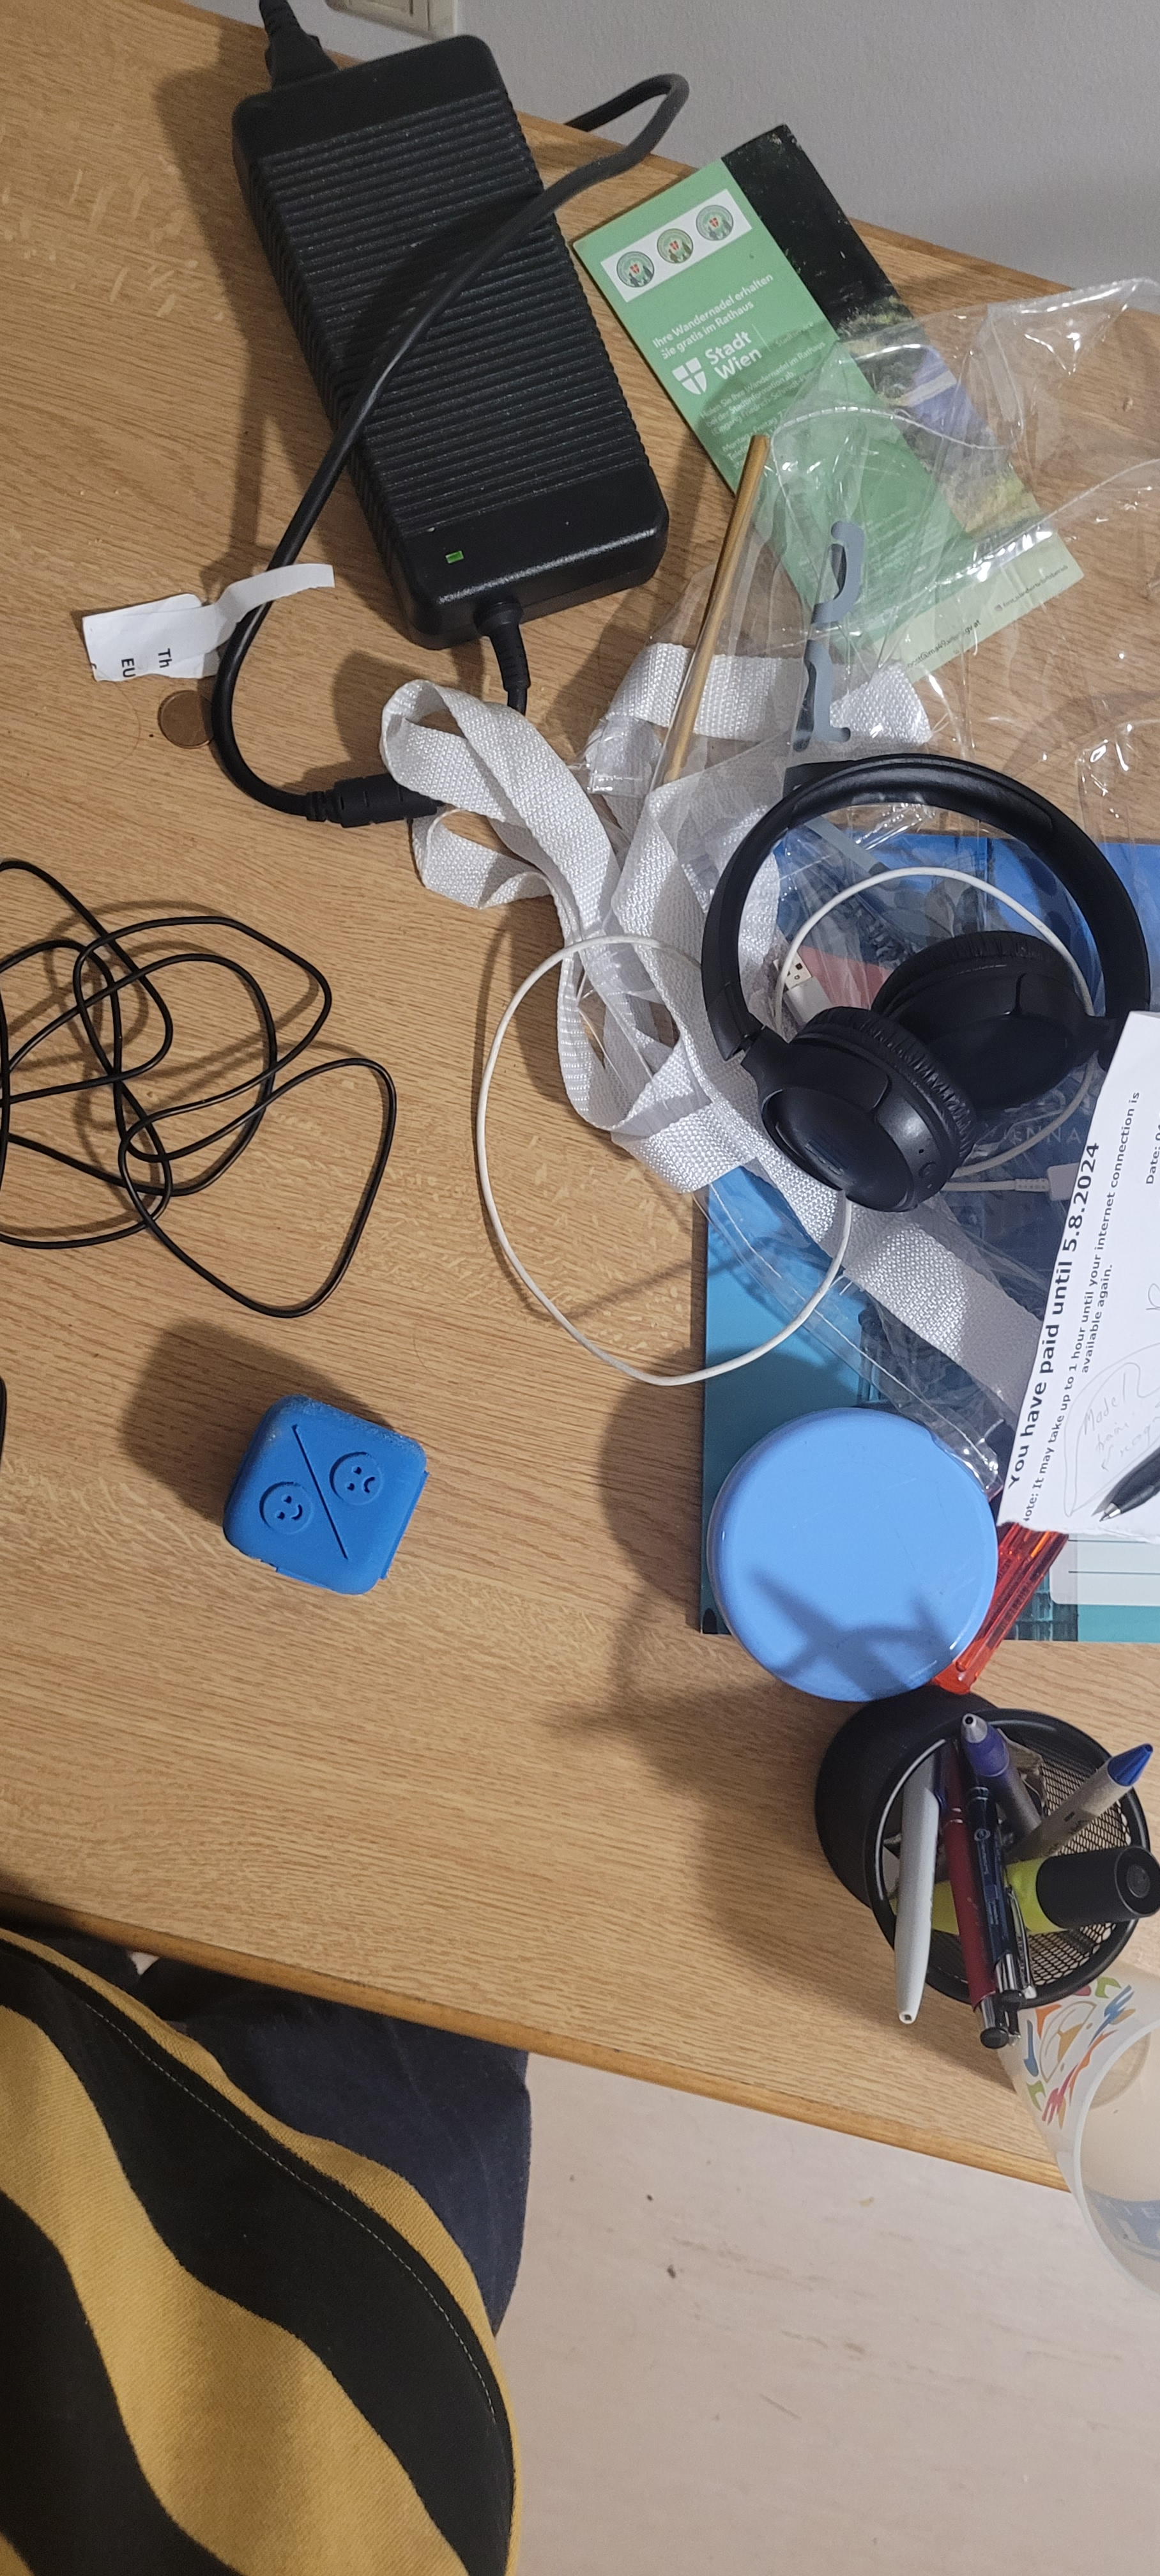Like/Dislike: (219, 1400, 486, 1625)
